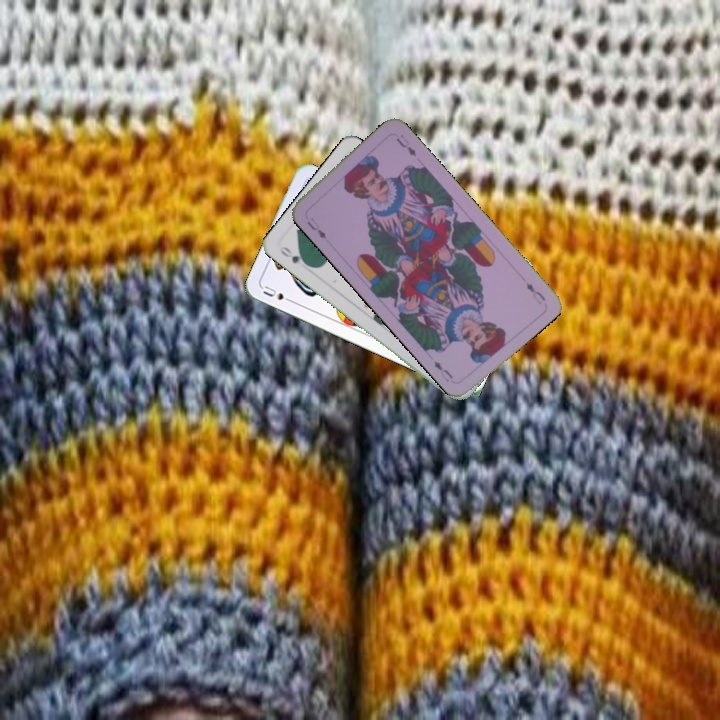EU: (522, 278, 548, 307), (303, 214, 329, 242)
GO: (276, 242, 312, 269)
SU: (259, 281, 297, 306)
